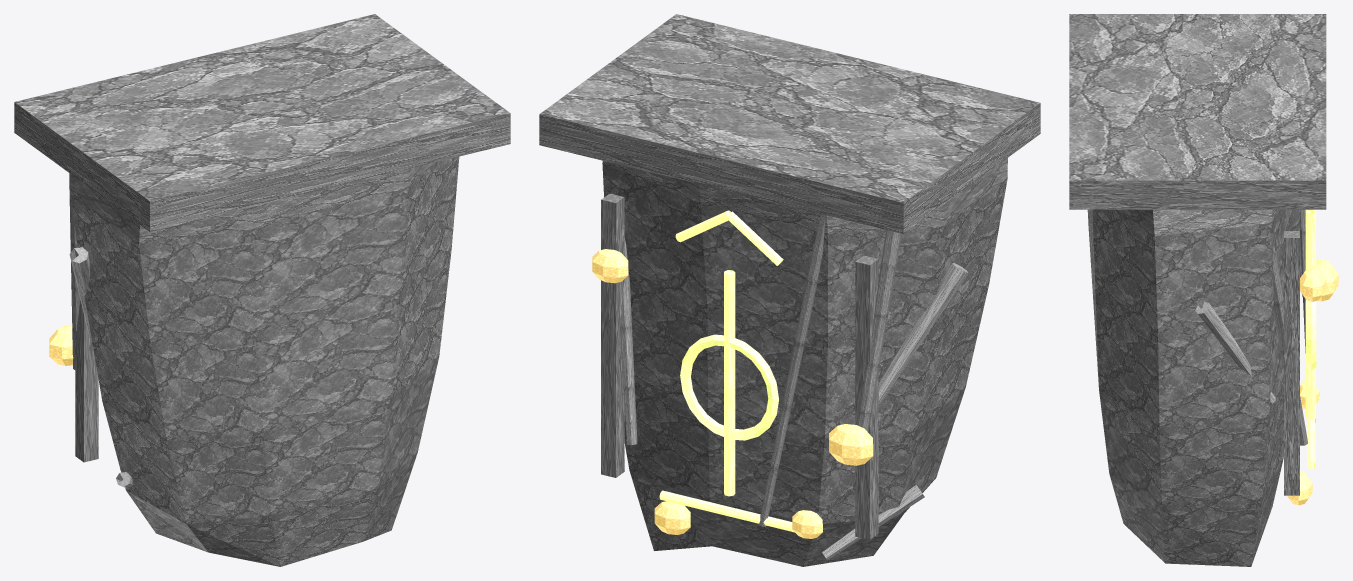
Rendered from underworld-deepstone-decay.glb.
3 views of the same model, side by side, from view 1: azimuth 30°, elevation 25°; view 2: azimuth 150°, elevation 25°; view 3: azimuth 270°, elevation 25° (orthographic). The views are drawn at different scales.
Parts seen in each view (by area): view 1: decay-stone, decay-detail-c, decay-detail-a, decay-detail-b; view 2: decay-stone, decay-rune, decay-detail-a, decay-detail-b, decay-detail-c; view 3: decay-stone, decay-rune, decay-detail-b, decay-detail-a, decay-detail-c.
Part boxes in pixels (left/top/right/bottom): decay-stone: left=14, top=14, right=510, bottom=566; decay-detail-c: left=69, top=247, right=132, bottom=488; decay-detail-a: left=69, top=173, right=80, bottom=369; decay-detail-b: left=49, top=325, right=73, bottom=365; decay-stone: left=539, top=14, right=1040, bottom=566; decay-rune: left=659, top=210, right=794, bottom=532; decay-detail-a: left=611, top=193, right=901, bottom=526; decay-detail-b: left=592, top=249, right=873, bottom=538; decay-detail-c: left=822, top=263, right=968, bottom=560; decay-stone: left=1069, top=14, right=1326, bottom=566; decay-rune: left=1305, top=209, right=1316, bottom=468; decay-detail-b: left=1287, top=259, right=1338, bottom=505; decay-detail-a: left=1273, top=209, right=1315, bottom=445; decay-detail-c: left=1195, top=301, right=1275, bottom=404.
Bounding box in the file's own units: 0.8679 × 1.01 × 0.5866.
Materials: 5 (5 with a texture image).
